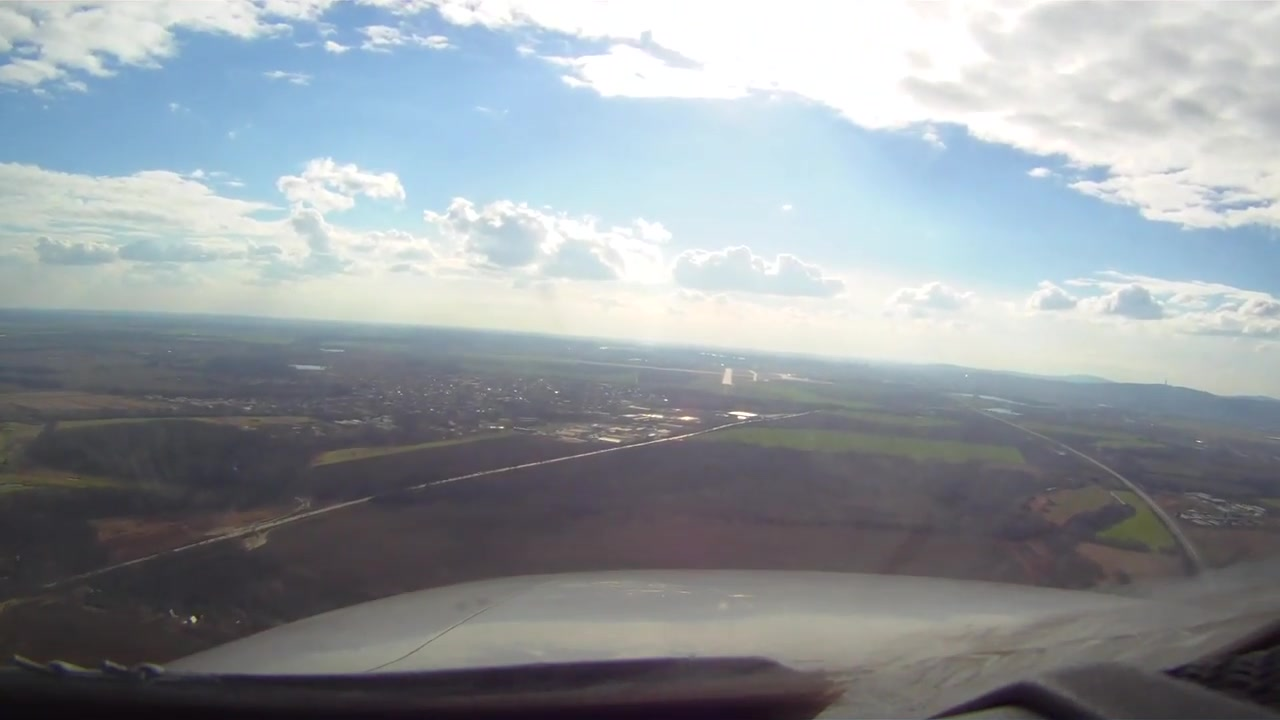runway: (719, 366, 734, 385)
